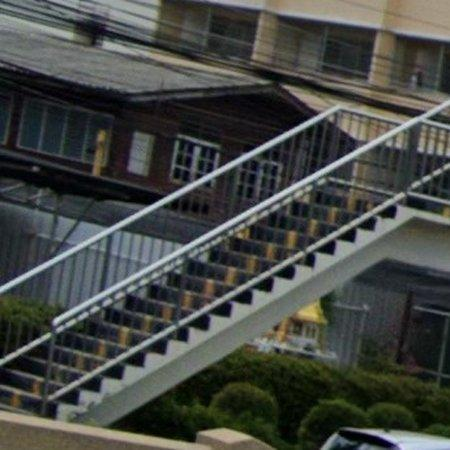stairs: (0, 104, 450, 426)
